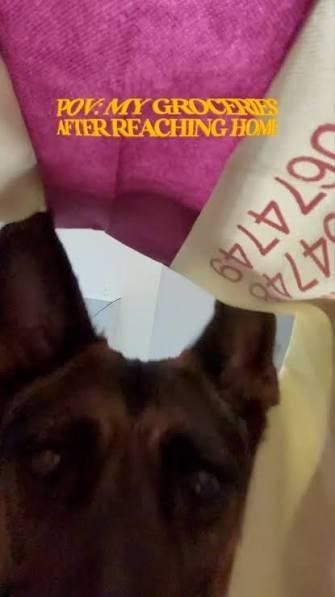adult_dog: (0, 214, 281, 597)
